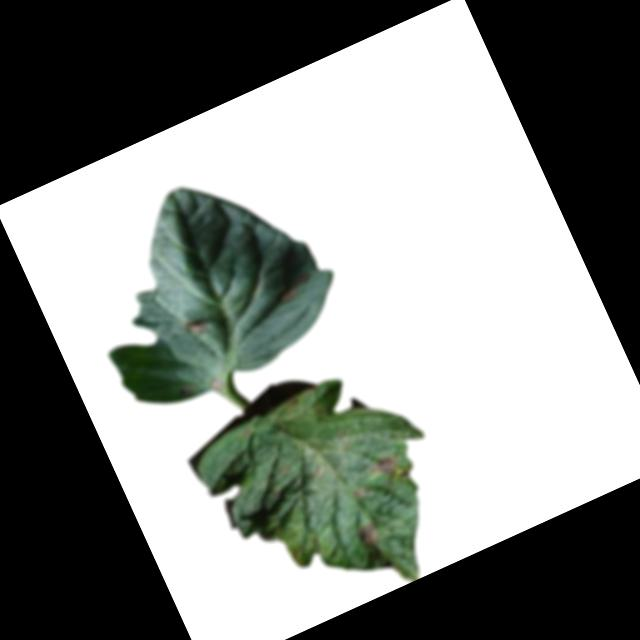Early_blight: (368, 443, 418, 491), (354, 518, 385, 554), (178, 311, 211, 336), (348, 482, 370, 505), (206, 373, 227, 394)
